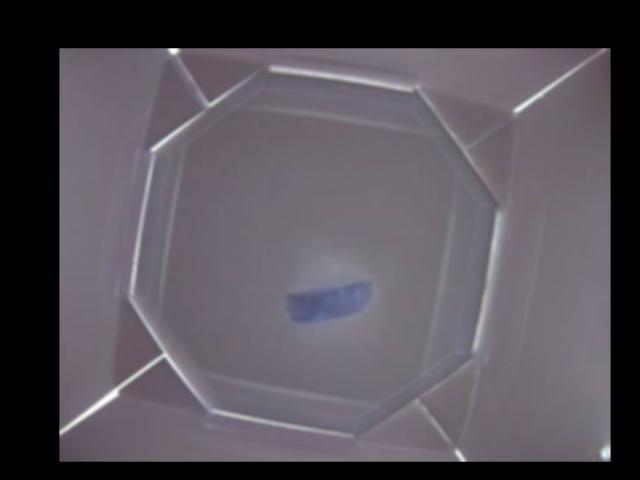Mooli: (287, 270, 372, 327)
